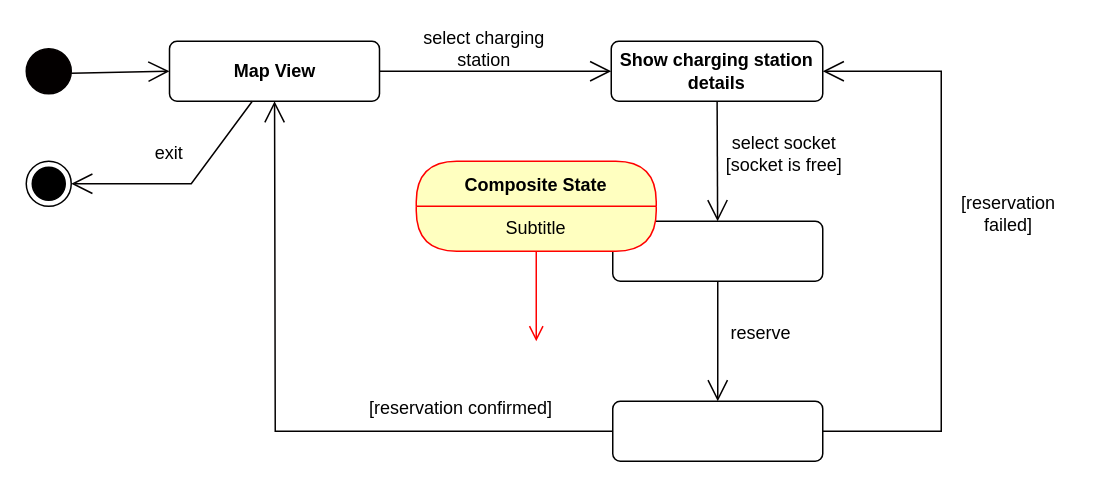
Image size: 1103x488. Some labels were removed from this diagram. The shapes that lost their labels are listed below. From the top down, each one's centre as x and y in pixels, then its label:
the point at 717,250: Show summary
the point at 717,430: Processing reservation
